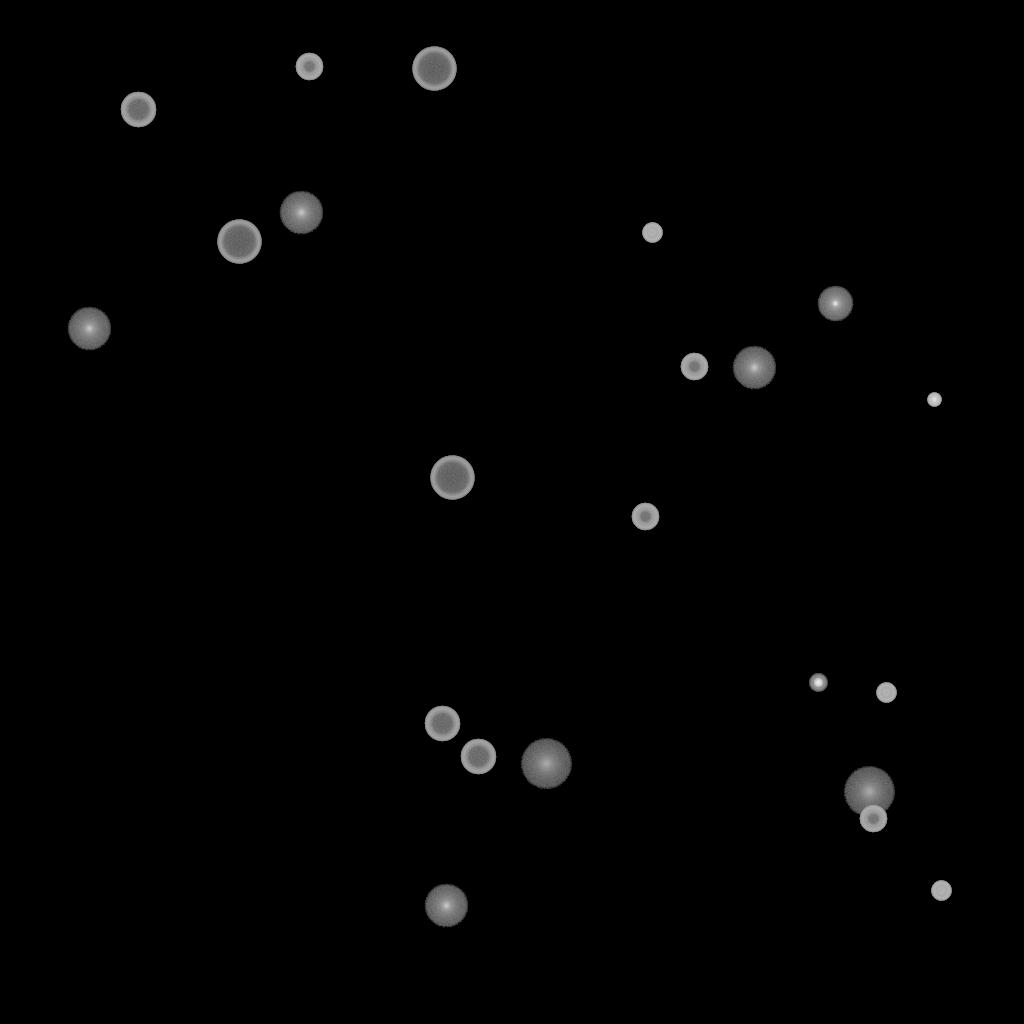depth:-20: (809, 674, 827, 692)
depth:-30: (927, 393, 941, 407)
depth:-40: (931, 881, 951, 901), (642, 223, 662, 243), (876, 683, 896, 703)
depth:-50: (859, 805, 887, 833), (295, 53, 323, 81), (680, 353, 708, 381), (631, 503, 659, 531)
depth:-60: (460, 739, 496, 775), (120, 92, 156, 128), (424, 706, 460, 742)
depth:-70: (412, 47, 456, 91), (217, 220, 261, 264), (430, 456, 474, 500)
depth:0: (817, 286, 853, 322)
depth:10: (279, 191, 323, 235), (424, 884, 468, 928), (732, 346, 776, 390), (67, 307, 111, 351)
depth:20: (843, 767, 895, 817), (520, 739, 572, 789)
